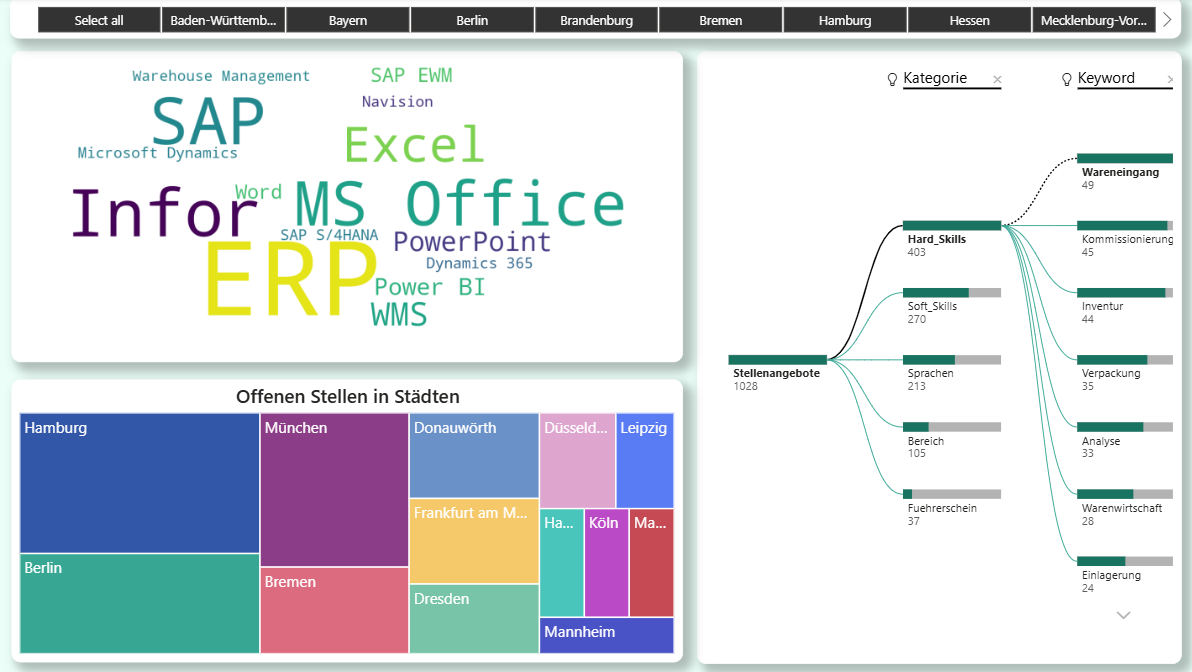

The page's visual inventory and layout, read from the dashboard file:
{"tool":"powerbi","page":{"name":"скилы","canvas":[1280,720],"ordinal":1},"visuals":[{"type":"decompositionTreeVisual","fields":{"Analyze":["CountNonNull(logistiker_all_keywords.ID)"],"ExplainBy":["logistiker_all_keywords.Kategorie","logistiker_all_keywords.Keyword"]},"box":[744,58,514,650],"z":0},{"type":"pythonVisual","fields":{"Values":["logistiker_all_keywords.Kategorie","logistiker_all_keywords.Keyword","logistiker_all_keywords.ID"]},"box":[18,58,712,330],"z":1000},{"type":"slicer","fields":{"Values":["logistiker_jobs_clean.Bundesland"]},"box":[16,0,1242,44],"z":2000},{"type":"treemap","title":"Offenen Stellen in Städten","fields":{"Group":["logistiker_jobs_clean.Ort"],"Values":["CountNonNull(logistiker_jobs_clean.ID)"]},"box":[18,406,712,300],"z":3000}]}

Visuals, with their boxes in screenshot pixels (x1, y1, x2, y2), scaled from the page's 1280x720 canvas onto the 1192x672 screenshot:
decompositionTreeVisual - CountNonNull(logistiker_all_keywords.ID) x logistiker_all_keywords.Kategorie: <bbox>693, 54, 1172, 661</bbox>
pythonVisual - logistiker_all_keywords.Kategorie x logistiker_all_keywords.Keyword: <bbox>17, 54, 680, 362</bbox>
slicer - logistiker_jobs_clean.Bundesland: <bbox>15, 0, 1172, 41</bbox>
"Offenen Stellen in Städten" treemap: <bbox>17, 379, 680, 659</bbox>
